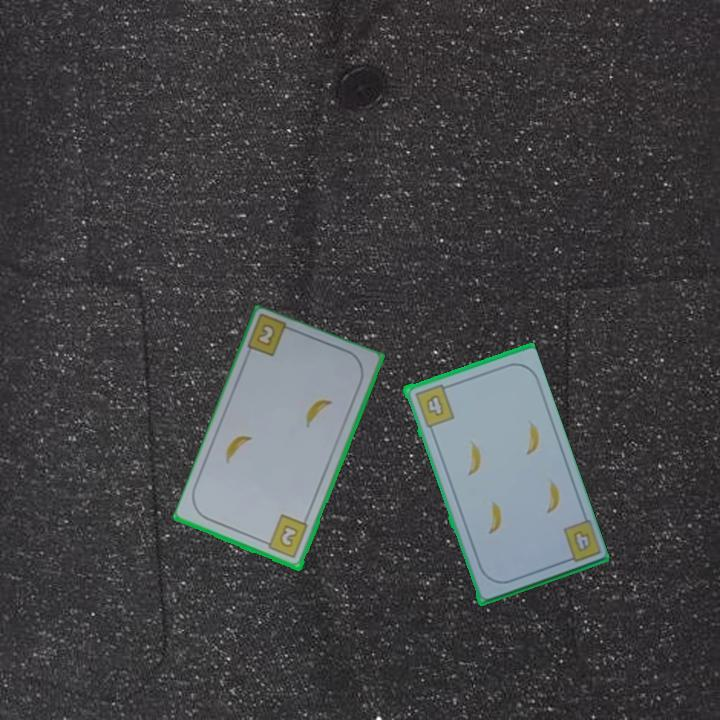2b: (260, 512, 311, 561), (253, 322, 276, 350)
4b: (411, 380, 457, 430), (558, 516, 602, 566)
